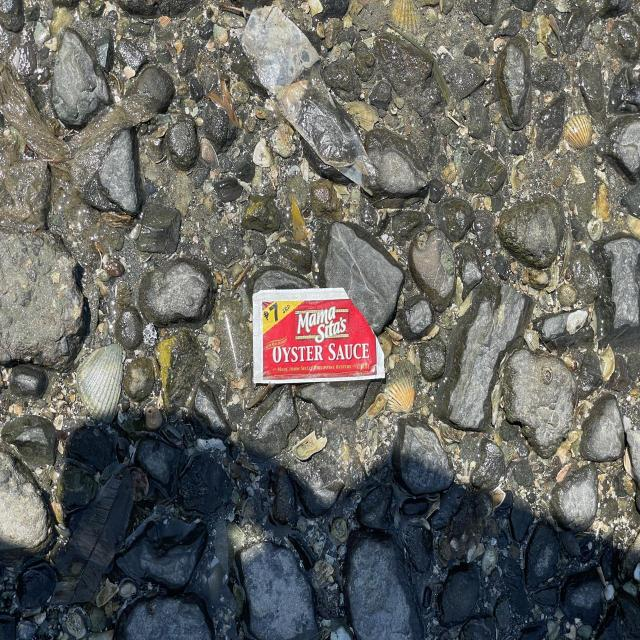plastic_waste: (254, 288, 387, 386)
